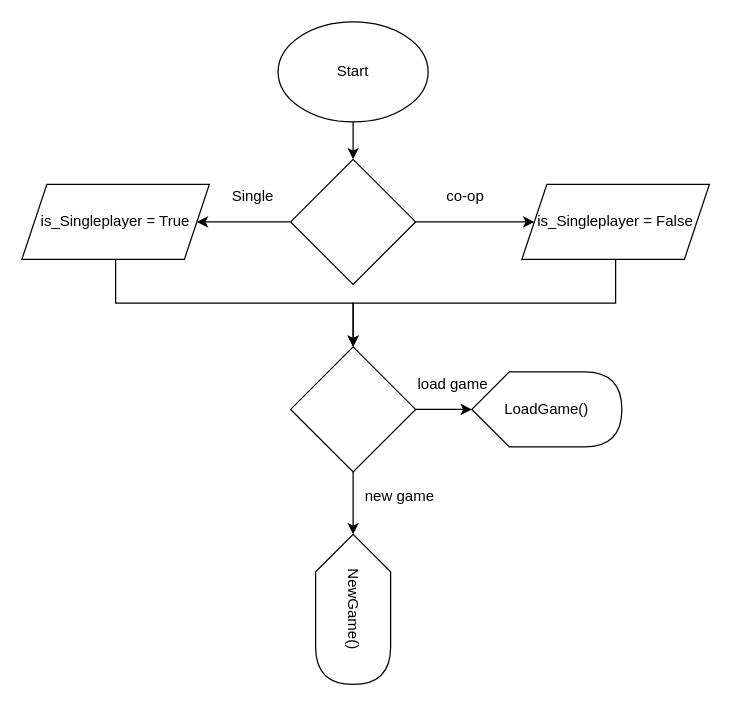
This 731x706 diagram has some shape labels left out. The shapes that lost their labels are listed below. From the top down, each one's centre as x and y in pixels, then its label:
At pixel 352 221: "Single player or co-op?".
At pixel 352 409: "Load save or create new?".
